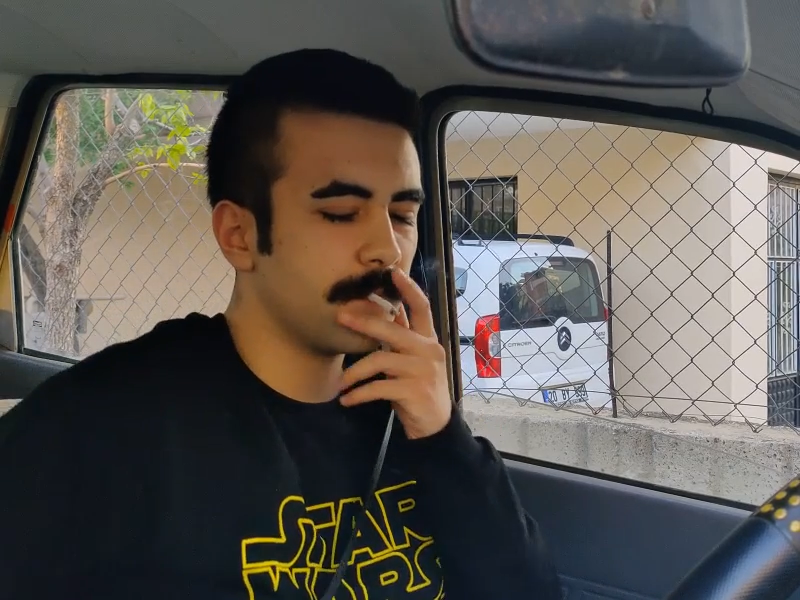sigara: (362, 287, 407, 323)
